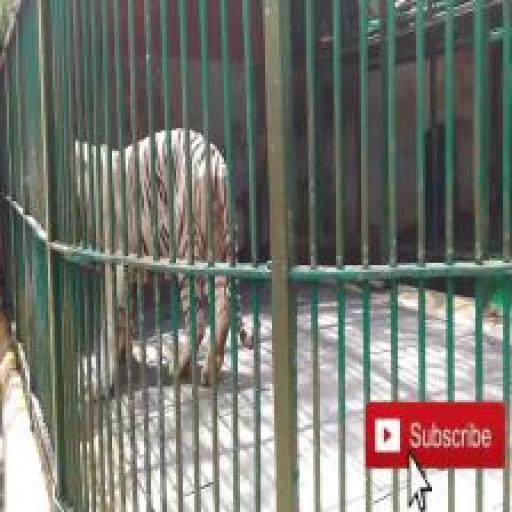Tiger: (171, 128, 190, 260), (100, 144, 123, 252), (210, 144, 230, 263), (190, 130, 208, 261), (155, 132, 170, 258), (101, 267, 116, 391), (138, 137, 153, 256), (76, 140, 92, 241), (215, 276, 230, 369), (124, 146, 136, 253), (179, 274, 191, 375), (195, 277, 208, 346), (116, 268, 126, 357), (237, 311, 253, 348), (93, 146, 99, 216), (202, 356, 211, 384)
